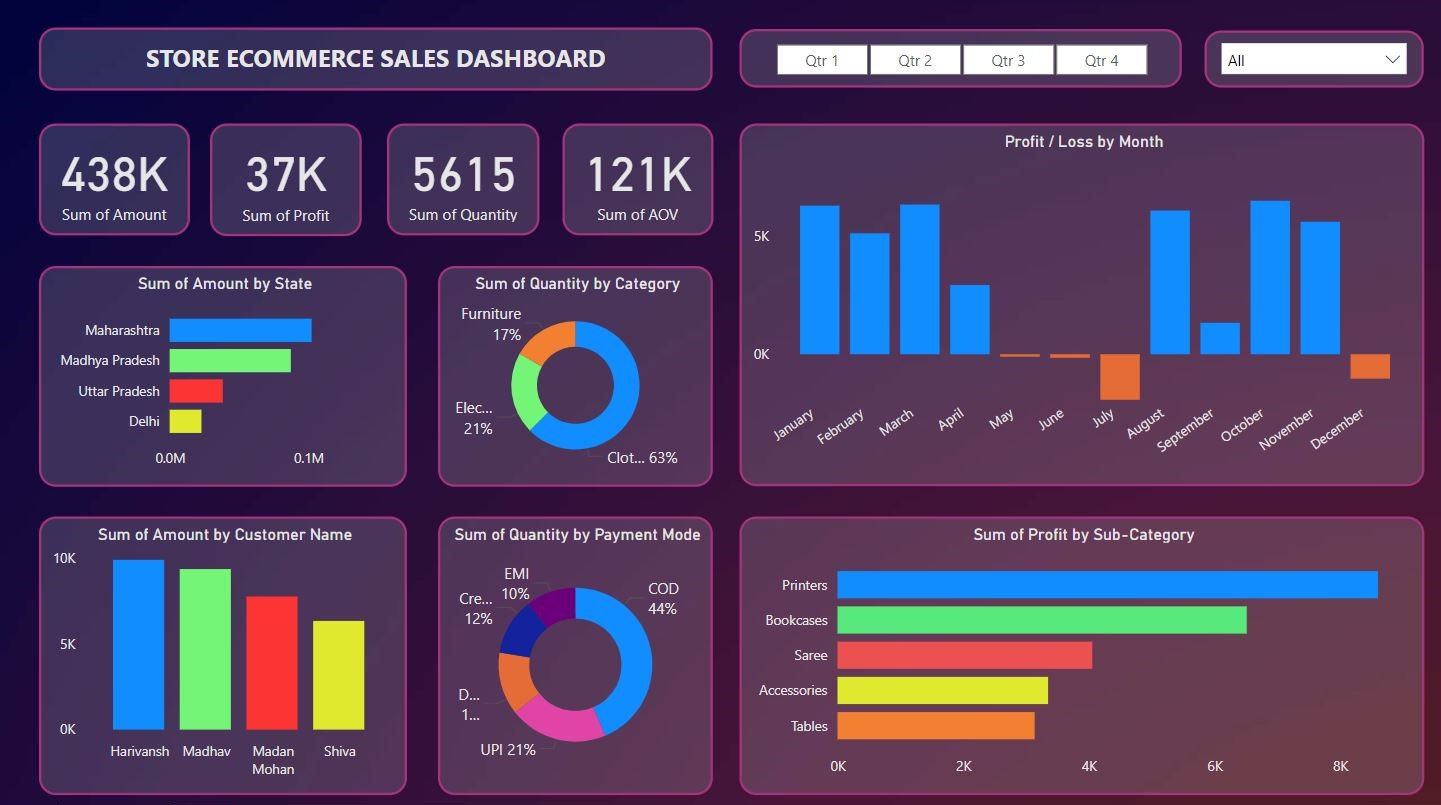

The dashboard page shown, as its layout file describes it:
{"tool":"powerbi","page":{"name":"Page 1","canvas":[1280,720],"ordinal":0},"visuals":[{"type":"textbox","box":[34.6,28,597.9,55.9],"z":0},{"type":"columnChart","title":"Profit / Loss by Month","fields":{"Category":["Orders.Order Date.Variation.Date Hierarchy.Month"],"Y":["Details.Profit"]},"box":[656.1,113.5,607.9,321.8],"z":1000},{"type":"barChart","fields":{"Category":["Details.Sub-Category"],"Y":["Details.Profit"]},"box":[656.1,461.7,607.9,247.2],"z":2000},{"type":"donutChart","fields":{"Category":["Details.Category"],"Y":["Details.Quantity"]},"box":[343.6,239.7,289,195.8],"z":3000},{"type":"donutChart","title":"Sum of Quantity by Payment Mode","fields":{"Category":["Details.PaymentMode"],"Y":["Details.Quantity"]},"box":[343.6,462.1,289,246.4],"z":4000},{"type":"card","fields":{"Values":["Details.Quantity"]},"box":[343.6,113.5,135.3,99.5],"z":5000},{"type":"card","fields":{"Values":["Details.Amount"]},"box":[34.2,113.5,133.7,99.5],"z":6000},{"type":"card","fields":{"Values":["Details.Profit"]},"box":[186.2,113.6,134.8,99.9],"z":7000},{"type":"card","fields":{"Values":["Details.AOV"]},"box":[499,113.5,133.7,99.5],"z":7001},{"type":"columnChart","title":"Sum of Amount by Customer Name","fields":{"Category":["Orders.CustomerName"],"Y":["Details.Amount"]},"box":[34.6,462.1,286.3,246.4],"z":7002},{"type":"barChart","fields":{"Category":["Orders.State"],"Y":["Details.Amount"]},"box":[34.6,239.7,286.3,195.8],"z":7003},{"type":"slicer","fields":{"Values":["Orders.Order Date.Variation.Date Hierarchy.Quarter"]},"box":[656.5,29.3,392.9,51.9],"z":7004},{"type":"slicer","title":"Filter by State","fields":{"Values":["Orders.State"]},"box":[1069.4,30.6,194.4,50.6],"z":7005}]}

Visuals, with their boxes in screenshot pixels (x1, y1, x2, y2), scaled from the page's 1280x720 canvas onto the 1441x805 screenshot:
textbox: 39/31/712/94
"Profit / Loss by Month" columnChart: 739/127/1423/487
barChart - Details.Sub-Category x Details.Profit: 739/516/1423/793
donutChart - Details.Category x Details.Quantity: 387/268/712/487
"Sum of Quantity by Payment Mode" donutChart: 387/517/712/792
card - Details.Quantity: 387/127/539/238
card - Details.Amount: 39/127/189/238
card - Details.Profit: 210/127/361/239
card - Details.AOV: 562/127/712/238
"Sum of Amount by Customer Name" columnChart: 39/517/361/792
barChart - Orders.State x Details.Amount: 39/268/361/487
slicer - Orders.Order Date.Variation.Date Hierarchy.Quarter: 739/33/1181/91
"Filter by State" slicer: 1204/34/1423/91
